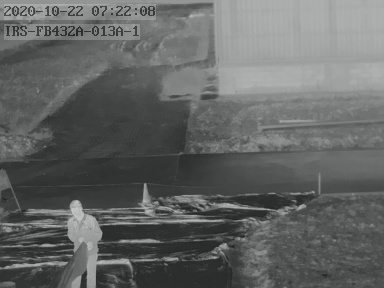person: (67, 200, 102, 286)
